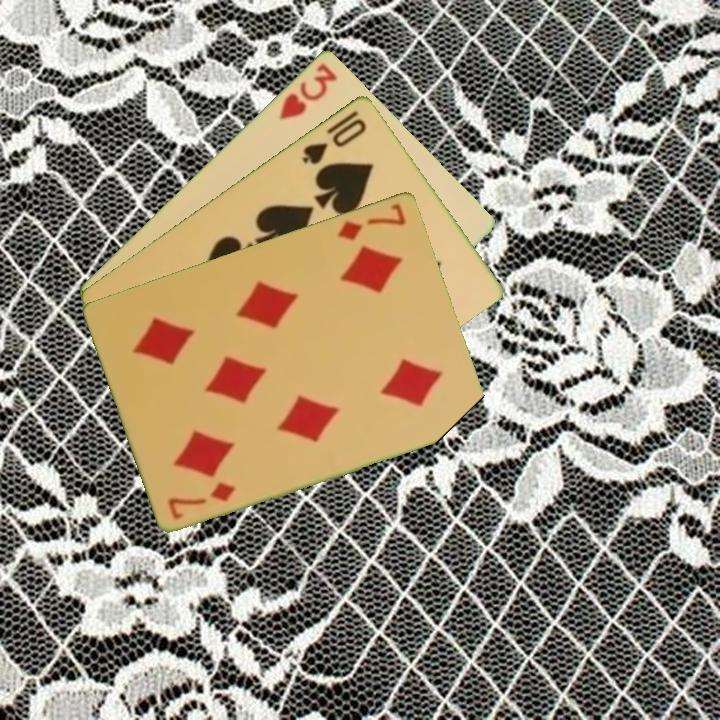10s: (298, 106, 370, 167)
3h: (276, 59, 341, 122)
7d: (333, 199, 409, 244), (164, 477, 239, 522)
